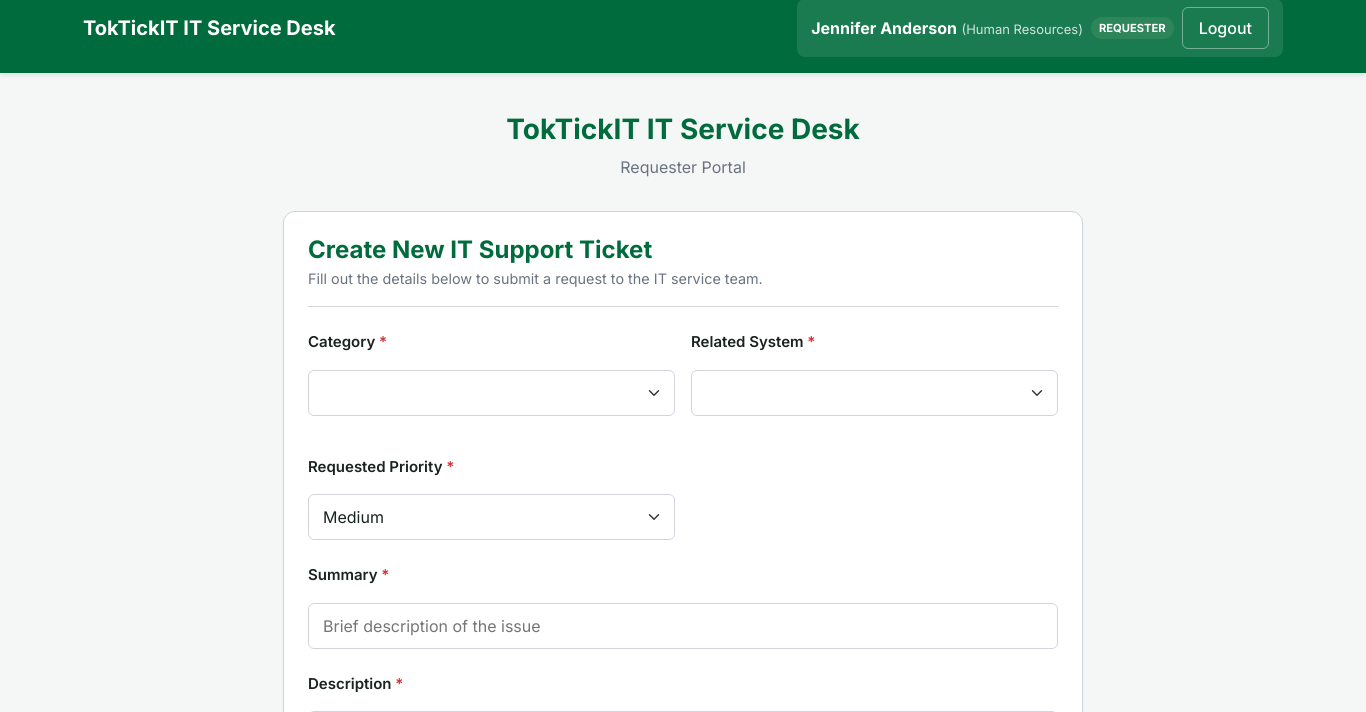
Test: CreateTicket Component › displays the generated Ticket Number on successful creation screen
The width and height of the screenshot is (1366, 712).
Type "Laptop screen shattered" into the field labelled "Summary *" at [683, 626], box 308,602 -> 1058,648
(page scrolled)
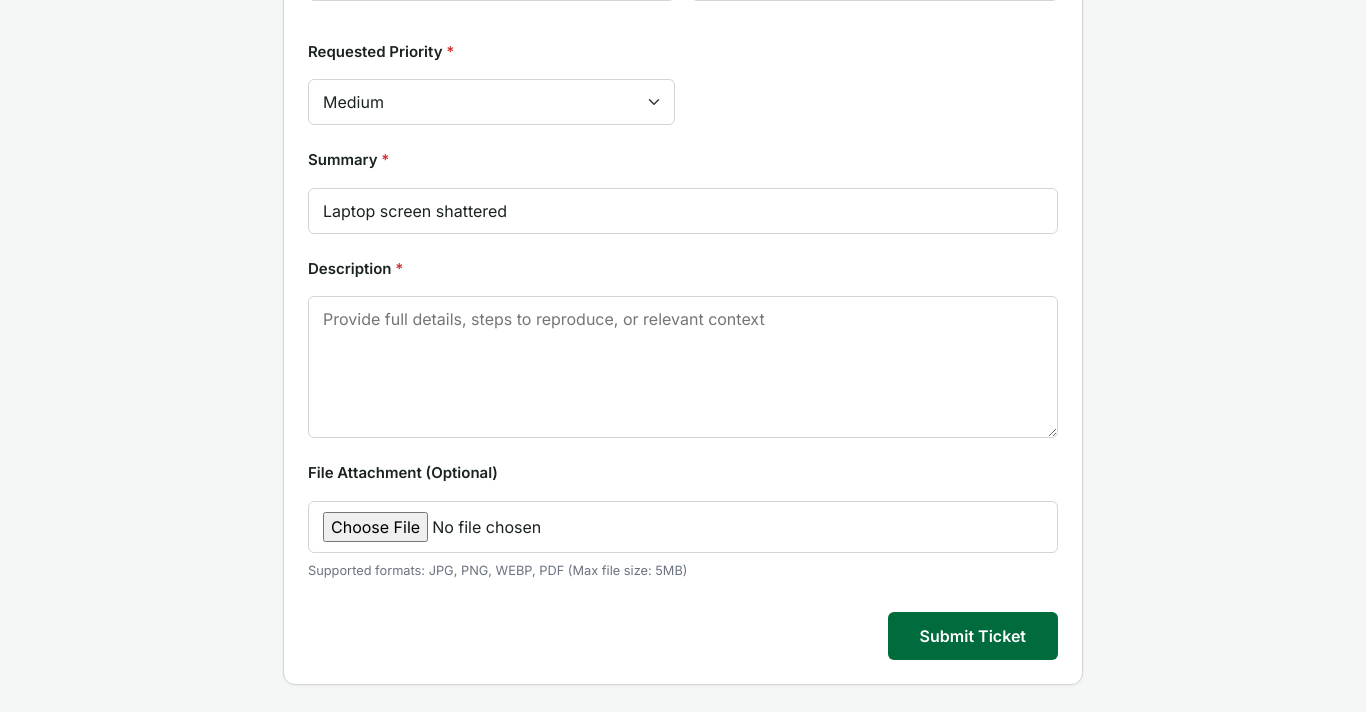
Replace the text in the text box labelled "Description *" with "Dropped laptop while moving desks." at [683, 367], box 308,296 -> 1058,438
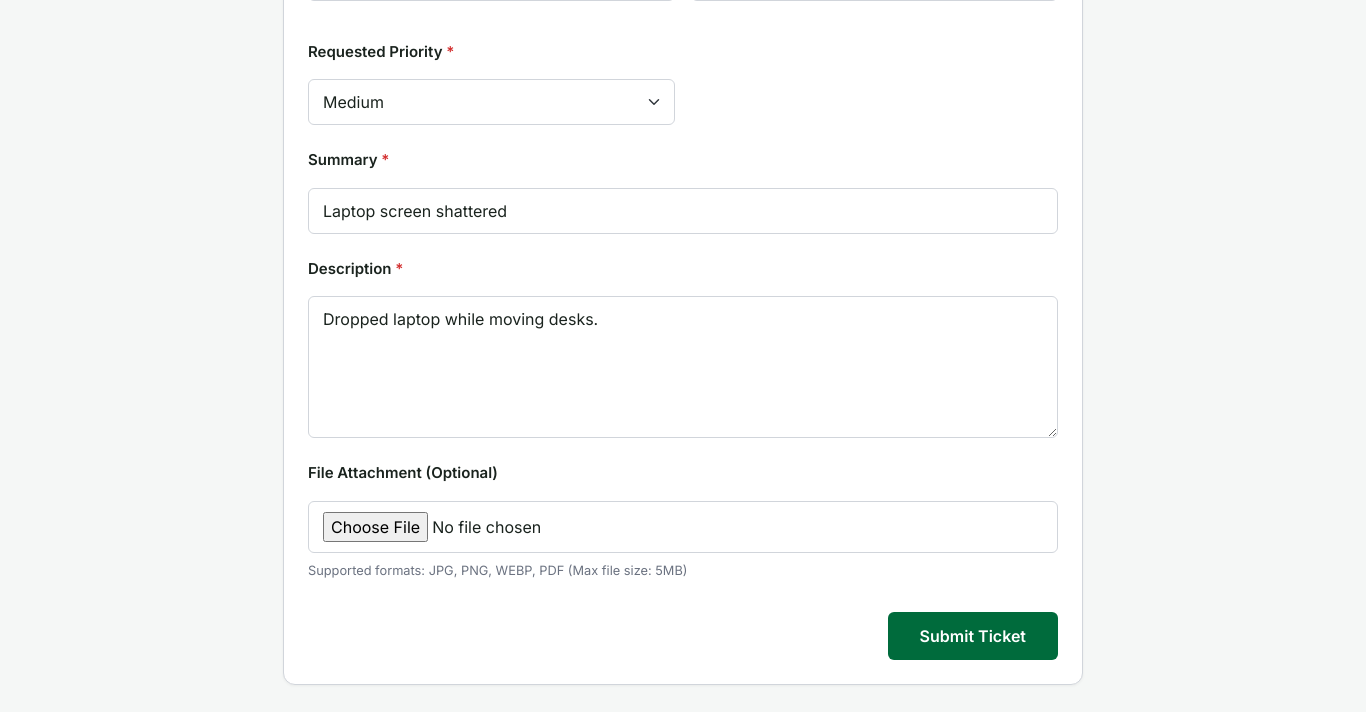
Click the button "Submit Ticket" at [973, 636], box 888,612 -> 1058,660
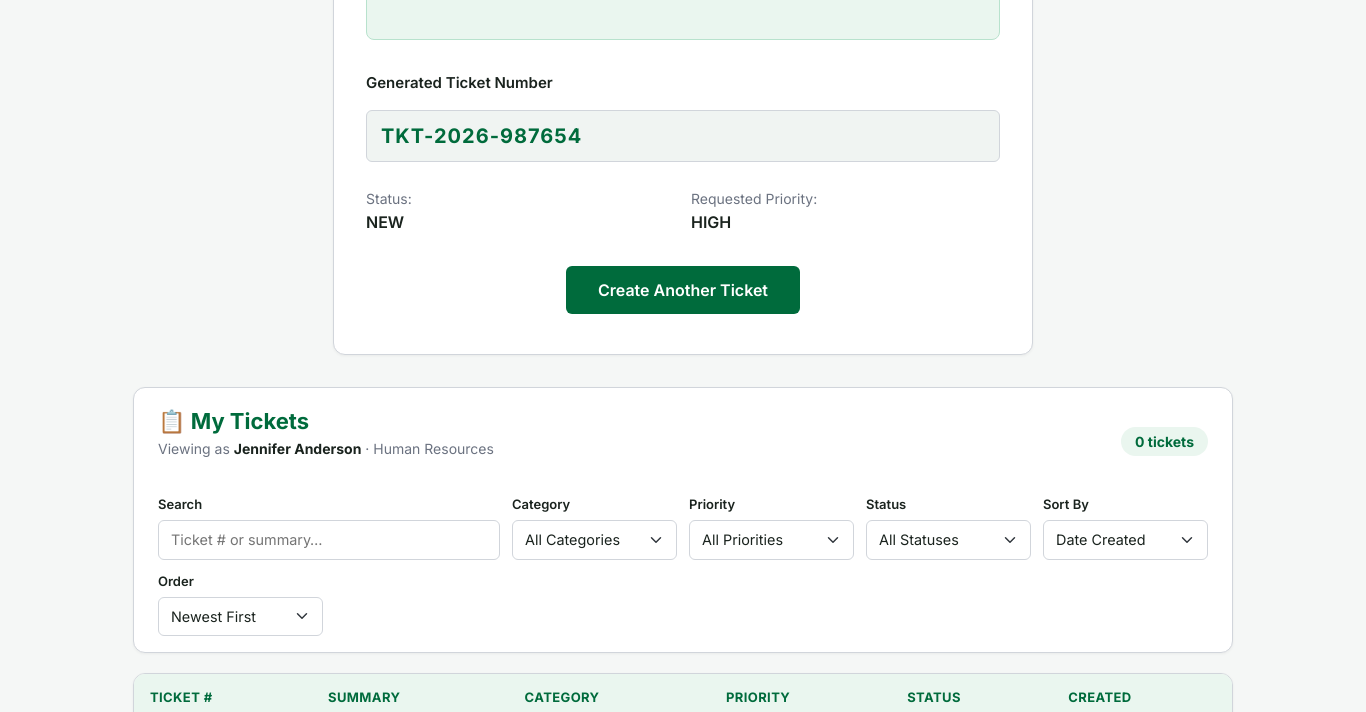
expect the field showing "TKT-2026-987654" is shown: met, box 366,110 -> 1000,162
